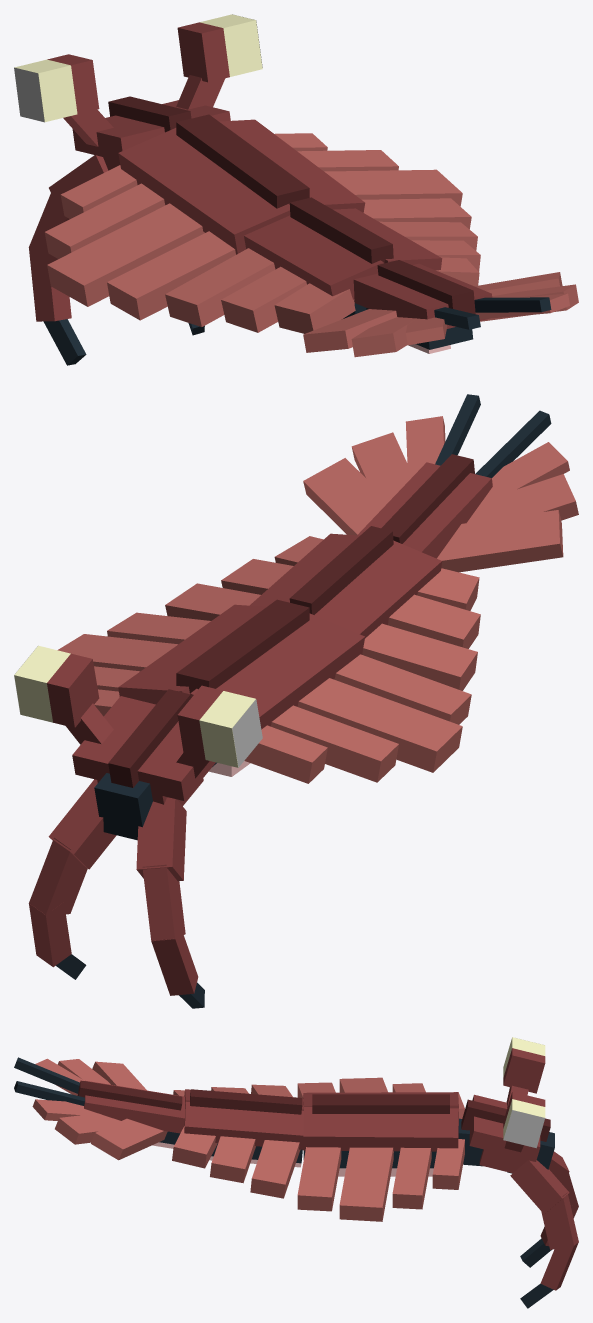
File: anomalocaris.obj
3 views of the same model, one above another, from view 1: azimuth 30°, elevation 25°; view 2: azimuth 150°, elevation 25°; view 3: azimuth 270°, elevation 25° (orthographic). The views are drawn at different scales.
Visible parts, largest first — view 1: Head, LeftUpperArm, UpperTorso, Tail, LowerTorso, LeftUpperLeg, RightUpperArm, RightUpperLeg, Head_decal2; view 2: Head, Tail, LeftUpperArm, UpperTorso, LowerTorso, LeftUpperLeg, RightUpperArm, RightUpperLeg, Head_decal2; view 3: Head, Tail, UpperTorso, RightUpperArm, LowerTorso, RightUpperLeg, LeftUpperArm, Head_decal1, LeftUpperLeg.
Boxes of the visible parts, left/top/right/bottom form: Head: left=14, top=14, right=262, bottom=365; LeftUpperArm: left=44, top=165, right=235, bottom=320; UpperTorso: left=118, top=114, right=365, bottom=254; Tail: left=303, top=260, right=578, bottom=357; LowerTorso: left=244, top=197, right=442, bottom=318; LeftUpperLeg: left=165, top=248, right=355, bottom=333; RightUpperArm: left=274, top=133, right=471, bottom=229; RightUpperLeg: left=379, top=221, right=480, bottom=286; Head_decal2: left=14, top=67, right=44, bottom=122; Head: left=14, top=645, right=255, bottom=1008; Tail: left=303, top=394, right=578, bottom=572; LeftUpperArm: left=244, top=654, right=471, bottom=783; UpperTorso: left=118, top=599, right=364, bottom=776; LowerTorso: left=250, top=526, right=442, bottom=638; LeftUpperLeg: left=362, top=568, right=480, bottom=690; RightUpperArm: left=57, top=612, right=210, bottom=716; RightUpperLeg: left=165, top=536, right=323, bottom=620; Head_decal2: left=232, top=699, right=262, bottom=767; Head: left=458, top=1037, right=578, bottom=1308; Tail: left=14, top=1057, right=184, bottom=1160; UpperTorso: left=303, top=1092, right=458, bottom=1176; RightUpperArm: left=297, top=1139, right=464, bottom=1221; LowerTorso: left=184, top=1089, right=303, bottom=1167; RightUpperLeg: left=172, top=1126, right=300, bottom=1198; LeftUpperArm: left=297, top=1077, right=464, bottom=1118; Head_decal1: left=503, top=1110, right=544, bottom=1148; LeftUpperLeg: left=173, top=1084, right=292, bottom=1097.
Size of the model in its own units: 8.95 by 6.95 by 16.42.
